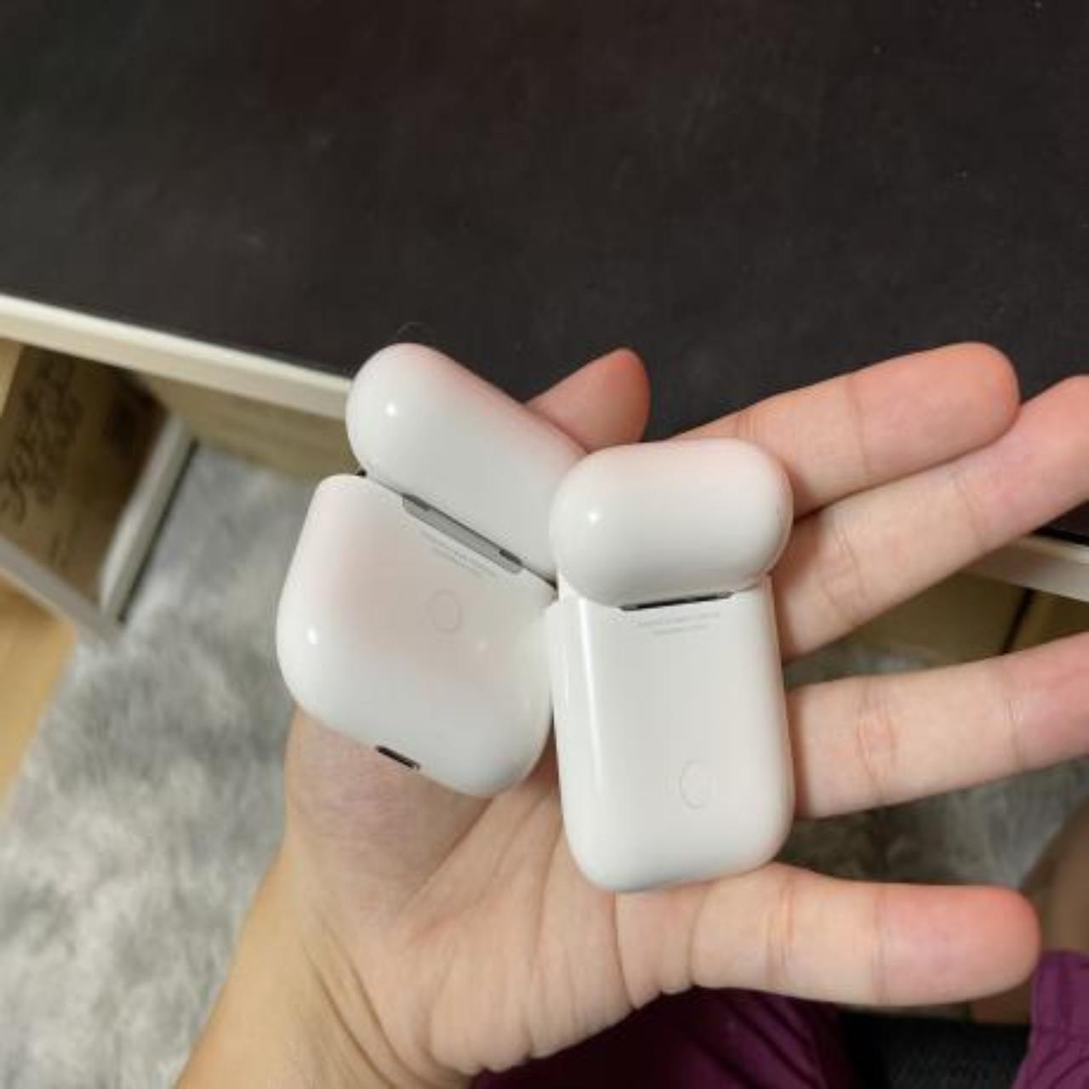AirPods: (258, 296, 608, 805), (532, 428, 823, 886)
